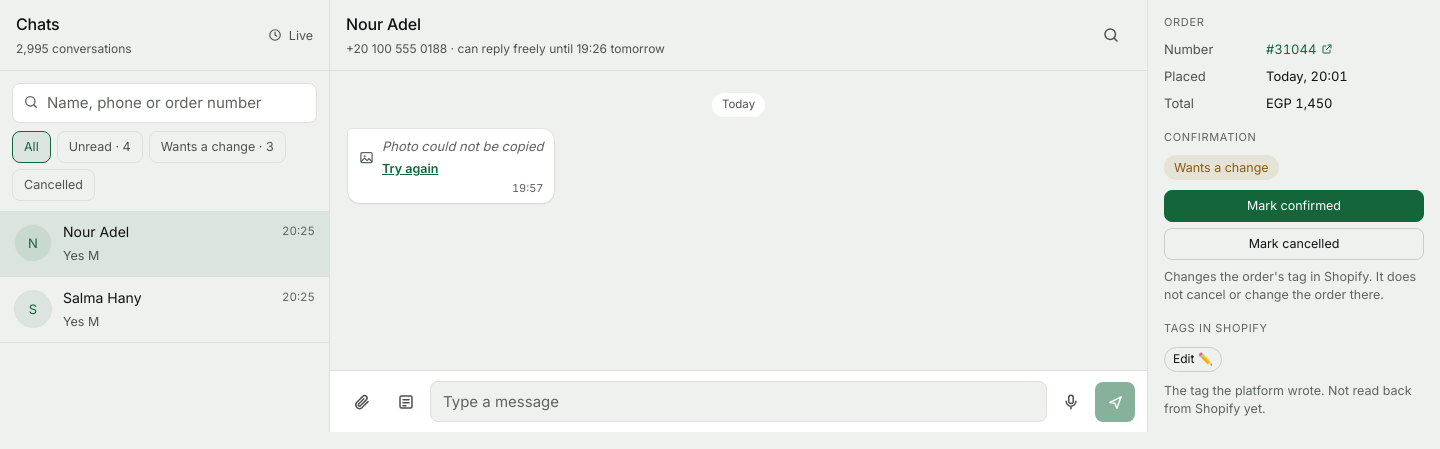
an open chat › says why when a photo still cannot be fetched
Click the button "Try again" at (410, 169), box [382,160,438,178]
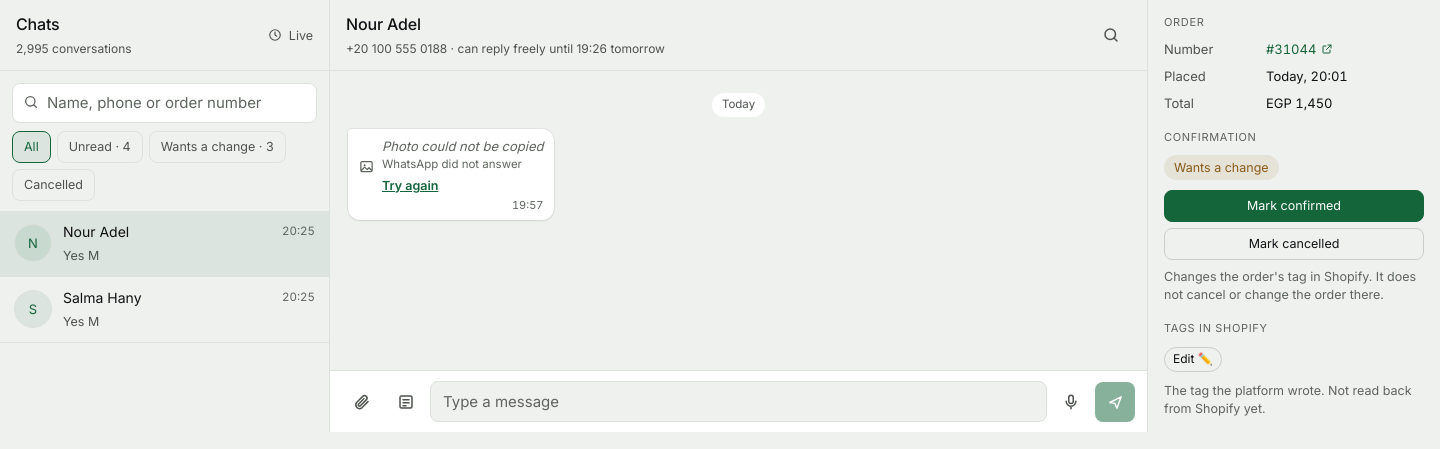
Check: the text "Photo could not be copied WhatsApp did not answer Try again" is shown, box [382,137,544,195]
Check: the message "WhatsApp did not answer" is shown, box [382,156,544,173]
